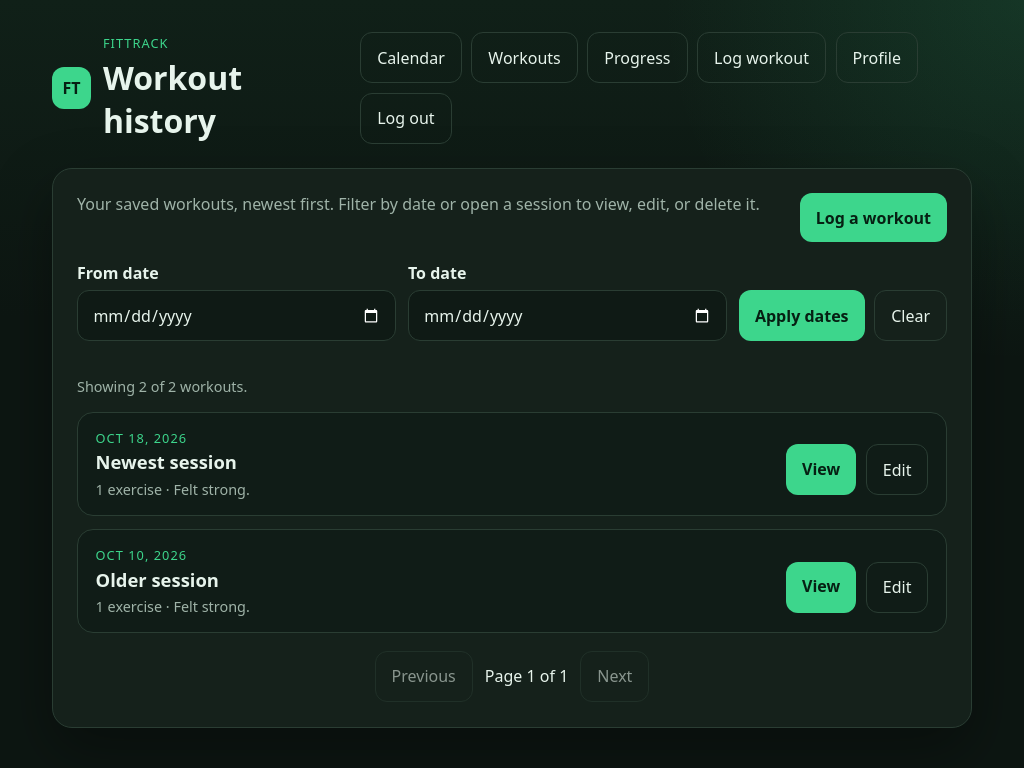
S2 workout pages › lists workouts newest first and opens details
Expected: the heading "Newest session" is shown, [96,449,250,474]
Step 1. Click the link "View" in the row of "Oct 18, 2026" → (821, 470), box [786,444,856,495]
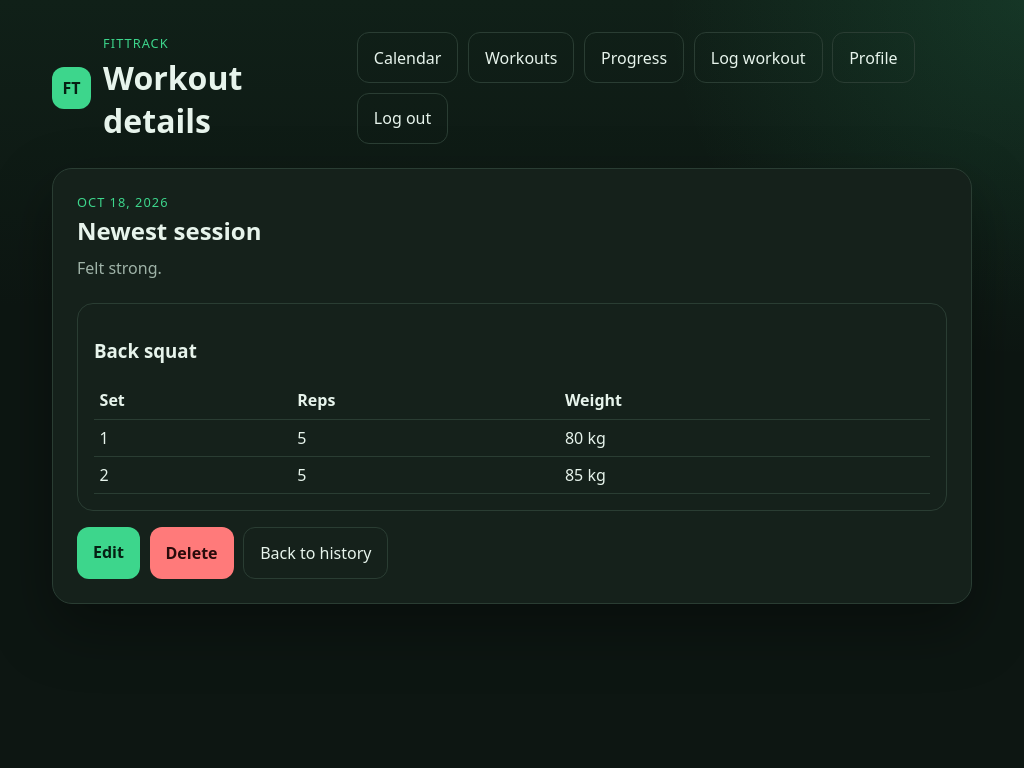
Expected: the heading "Newest session" is shown, [77,214,262,247]
Now the heading "Back squat" is shown, box [94,338,197,364]
Now the text "85 kg" is shown, box [559,456,930,494]
